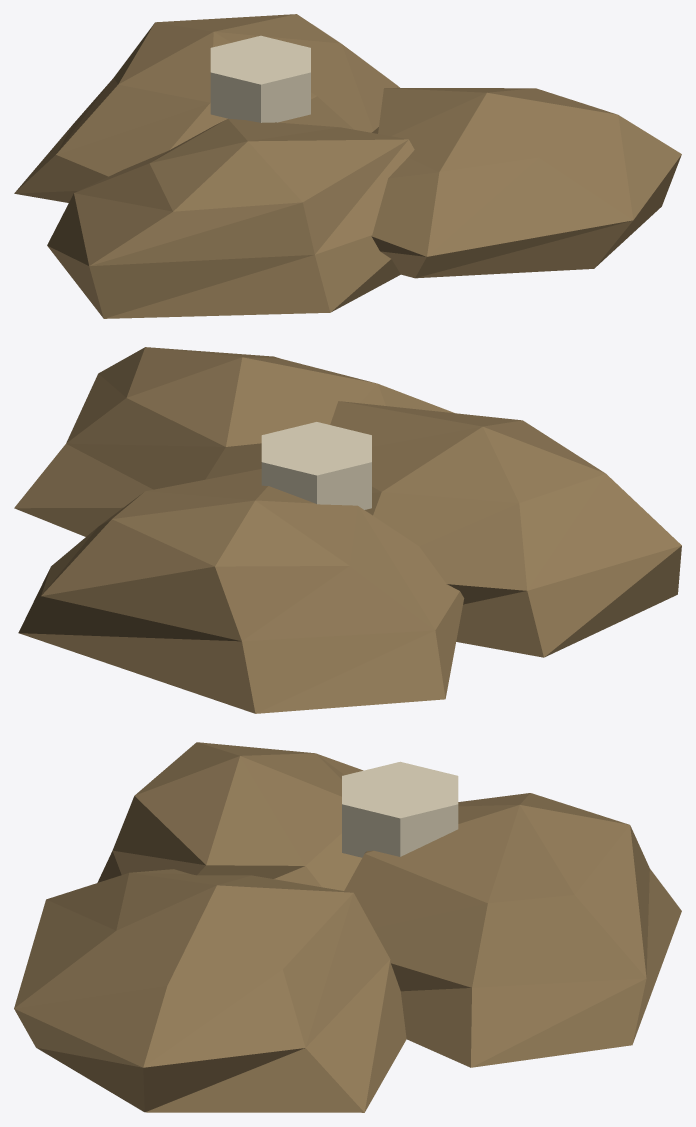
Rendered from food_hops.obj.
3 views of the same model, one above another, from view 1: azimuth 30°, elevation 25°; view 2: azimuth 150°, elevation 25°; view 3: azimuth 270°, elevation 25° (orthographic). The views are drawn at different scales.
Parts seen in each view (by area): view 1: food_hops; view 2: food_hops; view 3: food_hops.
Boxes of the visible parts, left/top/right/bottom form: food_hops: left=14, top=14, right=681, bottom=318; food_hops: left=14, top=347, right=681, bottom=713; food_hops: left=14, top=742, right=681, bottom=1112.
Bounding box in the file's own units: 0.5602 × 0.13 × 0.4977.
